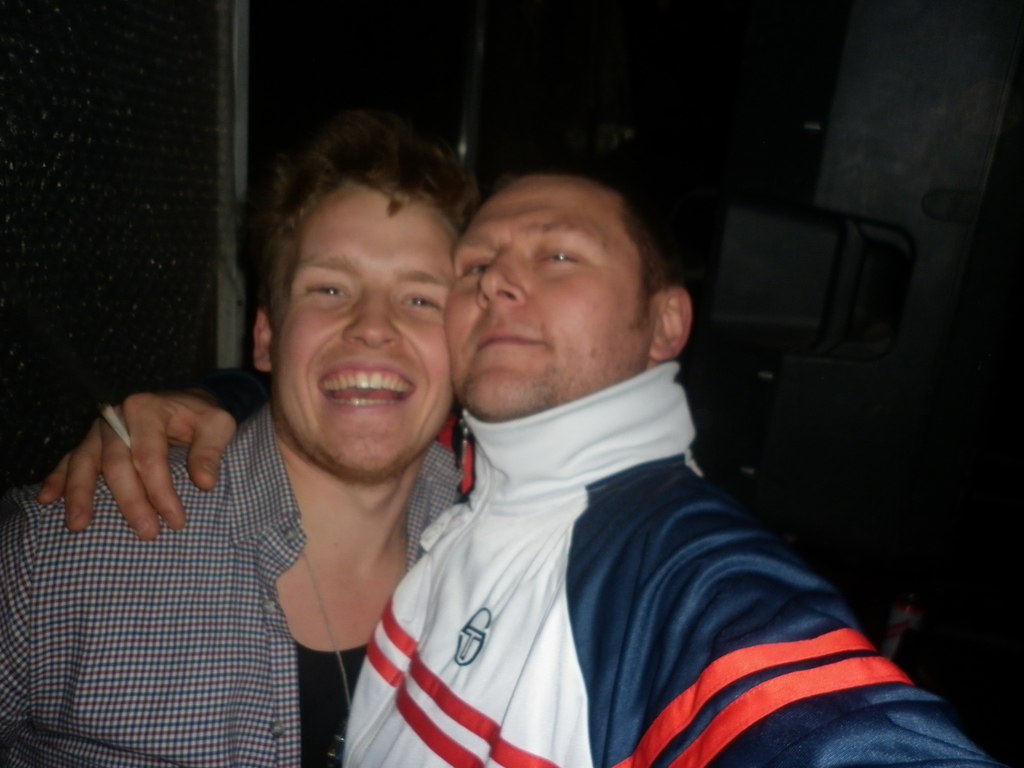Human-face: (449, 175, 652, 419), (280, 185, 455, 467)
